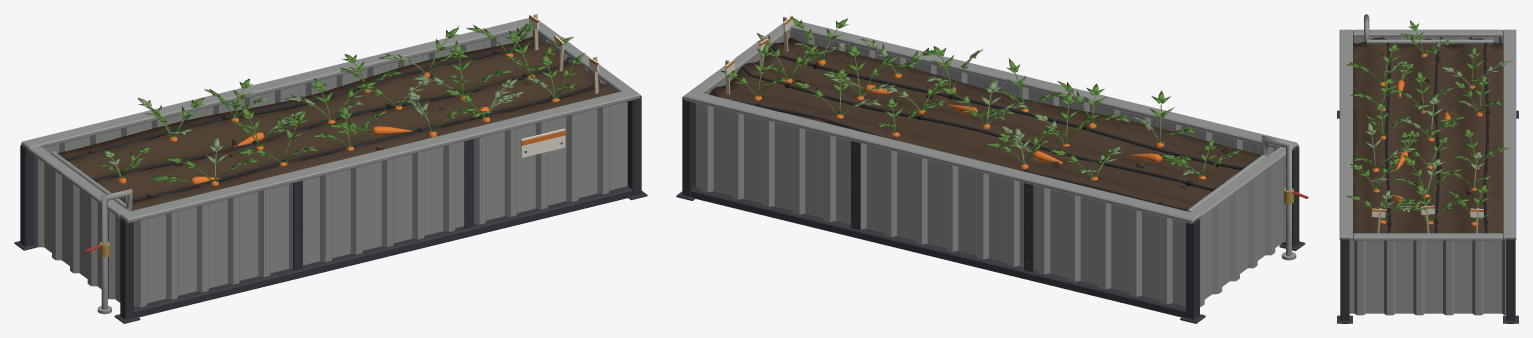
The model's file is deco_farm_bed_roots.fbx.
The picture shows the model from 3 angles, left to right: view 1: azimuth 30°, elevation 25°; view 2: azimuth 150°, elevation 25°; view 3: azimuth 270°, elevation 25°; orthographic projection. The views are drawn at different scales.
Parts seen in each view (by area): view 1: FarmBed_Roots_Frame, FarmBed_Roots_Soil, FarmBed_Roots_Tops, FarmBed_Roots_Irrigation, FarmBed_Roots_Tags, FarmBed_Roots_Roots; view 2: FarmBed_Roots_Frame, FarmBed_Roots_Soil, FarmBed_Roots_Tops, FarmBed_Roots_Irrigation, FarmBed_Roots_Roots, FarmBed_Roots_Tags; view 3: FarmBed_Roots_Soil, FarmBed_Roots_Frame, FarmBed_Roots_Tops, FarmBed_Roots_Irrigation, FarmBed_Roots_Roots, FarmBed_Roots_Tags.
Boxes of the visible parts, box(x1,y1,x2,y2) form: FarmBed_Roots_Frame: box(14, 18, 647, 323); FarmBed_Roots_Soil: box(57, 36, 615, 210); FarmBed_Roots_Tops: box(99, 21, 584, 183); FarmBed_Roots_Irrigation: box(50, 36, 599, 314); FarmBed_Roots_Tags: box(521, 14, 598, 157); FarmBed_Roots_Roots: box(118, 53, 559, 185); FarmBed_Roots_Frame: box(676, 21, 1305, 323); FarmBed_Roots_Soil: box(709, 37, 1261, 208); FarmBed_Roots_Tops: box(720, 16, 1239, 178); FarmBed_Roots_Irrigation: box(712, 45, 1308, 260); FarmBed_Roots_Roots: box(754, 59, 1206, 180); FarmBed_Roots_Tags: box(725, 15, 793, 94); FarmBed_Roots_Soil: box(1353, 37, 1502, 233); FarmBed_Roots_Frame: box(1337, 29, 1518, 323); FarmBed_Roots_Tops: box(1346, 20, 1512, 223); FarmBed_Roots_Irrigation: box(1364, 14, 1493, 233); FarmBed_Roots_Roots: box(1372, 53, 1482, 225); FarmBed_Roots_Tags: box(1371, 205, 1483, 233).
Size of the model in its own units: 424 by 105 by 148.
